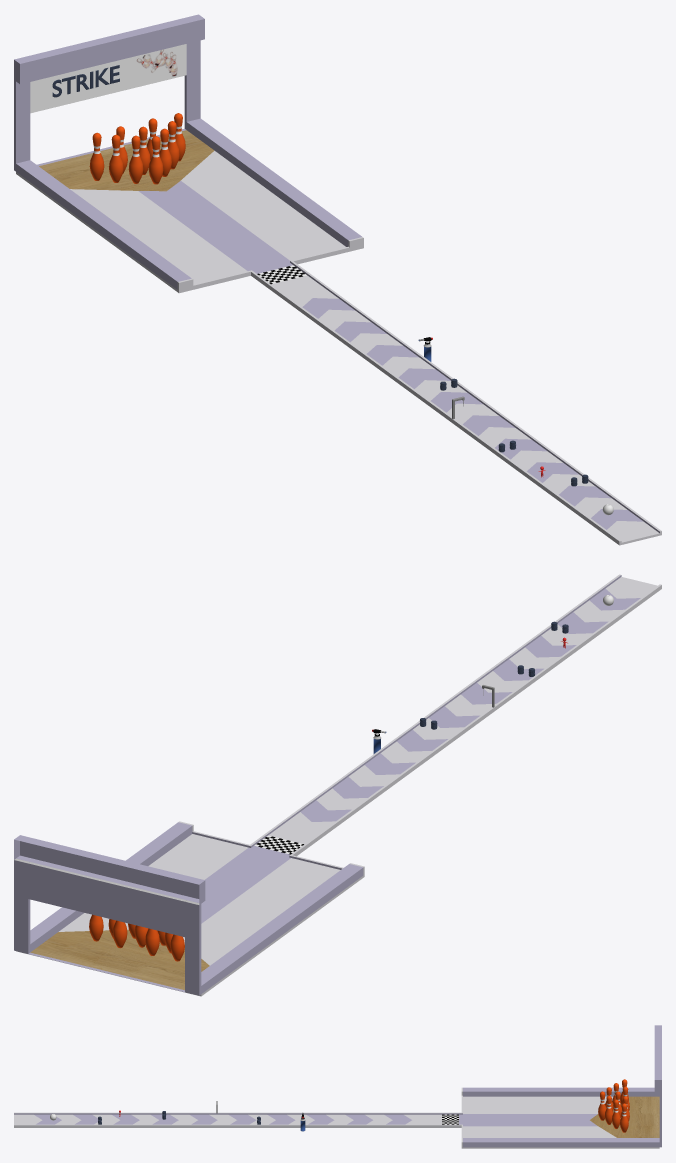
File: bowling.fbx
3 renders of one model, top to bottom at view 1: azimuth 30°, elevation 25°; view 2: azimuth 150°, elevation 25°; view 3: azimuth 270°, elevation 25°, orthographic. The views are drawn at different scales.
Visible parts, largest first — view 1: Path, Finish, Path.001; view 2: Path, Finish, Path.001; view 3: Path, Path.001, Finish.
Boxes of the visible parts, bbox=[...] form: Path: bbox=[16, 118, 661, 545]; Finish: bbox=[14, 14, 204, 171]; Path.001: bbox=[39, 130, 214, 191]; Path: bbox=[16, 574, 661, 996]; Finish: bbox=[14, 835, 205, 995]; Path.001: bbox=[30, 929, 209, 990]; Path: bbox=[14, 1087, 659, 1148]; Path.001: bbox=[590, 1096, 659, 1137]; Finish: bbox=[654, 1025, 661, 1147].
Size of the model in its own units: 13.04 by 7.8 by 65.22.
Materials: 12 (2 with a texture image).
